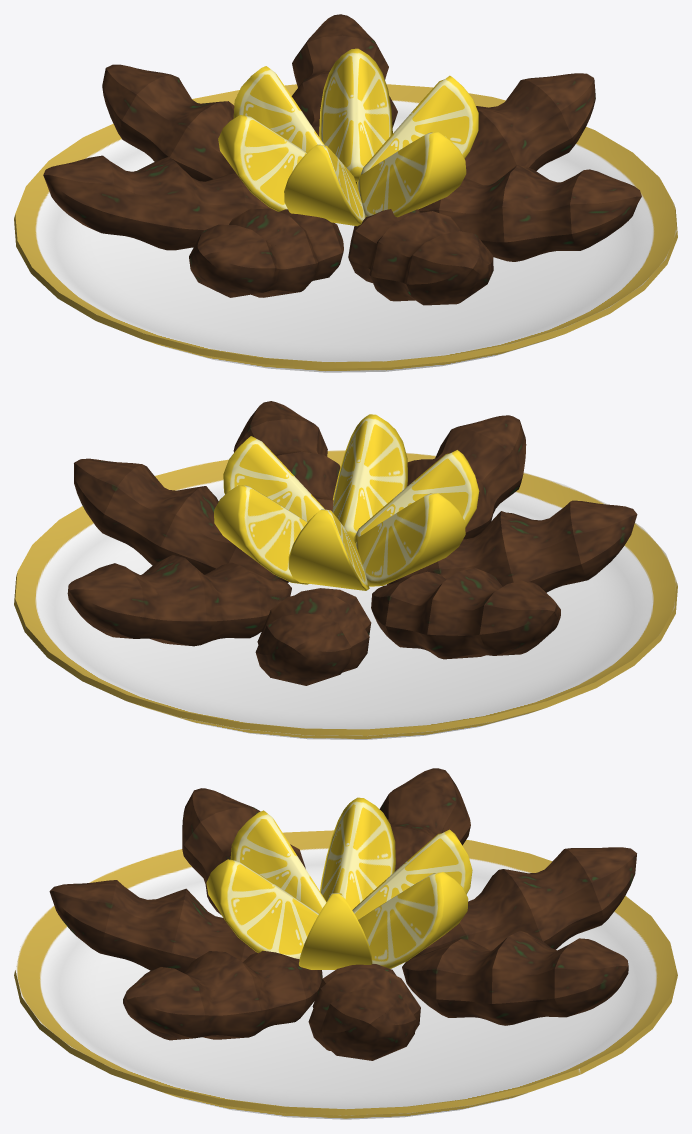
Rendered from TabaklıLimonCigkofte.fbx.
The picture shows the model from 3 angles, top to bottom: view 1: azimuth 30°, elevation 25°; view 2: azimuth 150°, elevation 25°; view 3: azimuth 270°, elevation 25°; orthographic projection.
Visible parts, largest first — view 1: TabakÇiğköftelimon; view 2: TabakÇiğköftelimon; view 3: TabakÇiğköftelimon.
Part boxes in pixels (x1,y1,x2,y2): TabakÇiğköftelimon: [14, 14, 677, 372]; TabakÇiğköftelimon: [14, 401, 677, 739]; TabakÇiğköftelimon: [14, 768, 677, 1119].
Size of the model in its own units: 0.8717 by 0.2151 by 0.8717.
